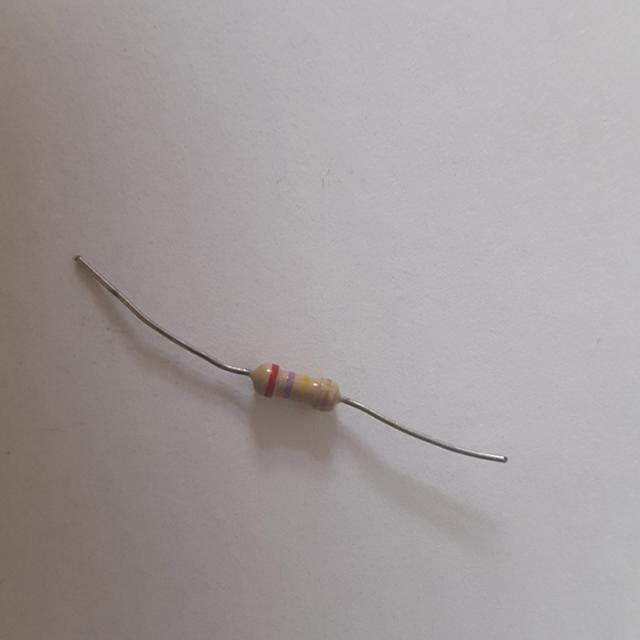gold: (320, 379, 330, 408)
red: (264, 364, 279, 397)
resistor: (240, 345, 358, 431)
violet: (283, 372, 293, 398)
yellow: (297, 376, 309, 400)
